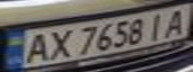5: (112, 18, 133, 48)
6: (93, 20, 118, 52)
7: (75, 24, 100, 55)
8: (127, 16, 151, 45)
A: (18, 30, 54, 64), (160, 6, 193, 37)
I: (142, 10, 172, 39)
X: (42, 27, 75, 61)
